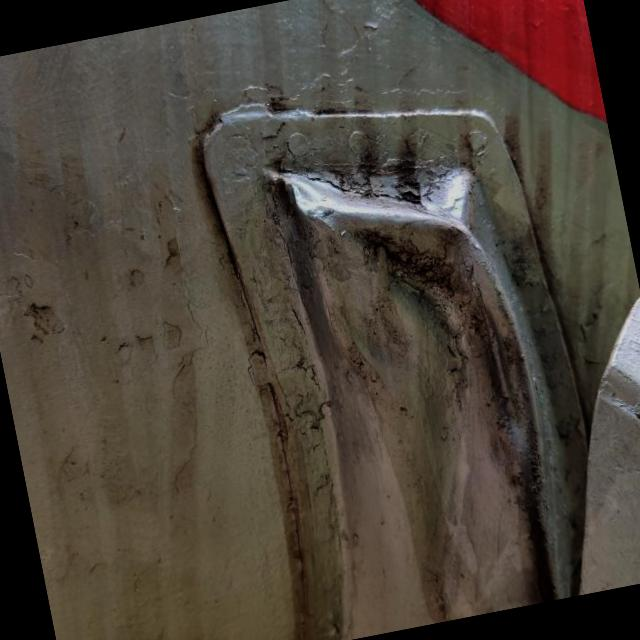dent: (248, 128, 588, 639)
